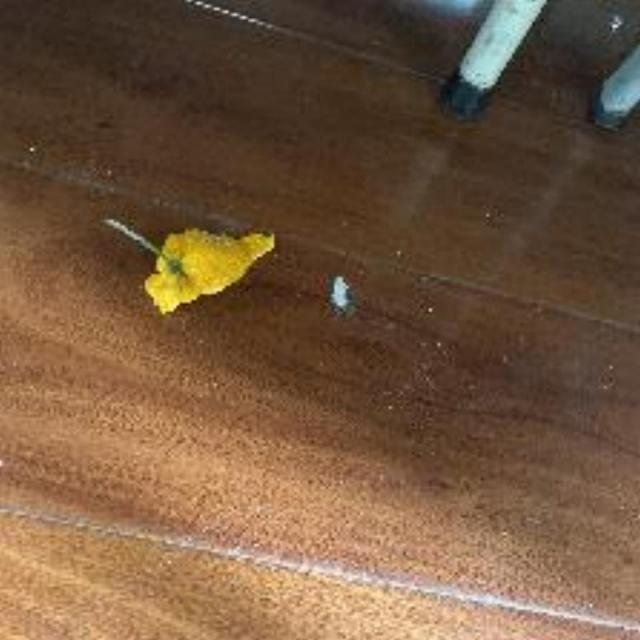orange peel: (140, 225, 274, 306)
